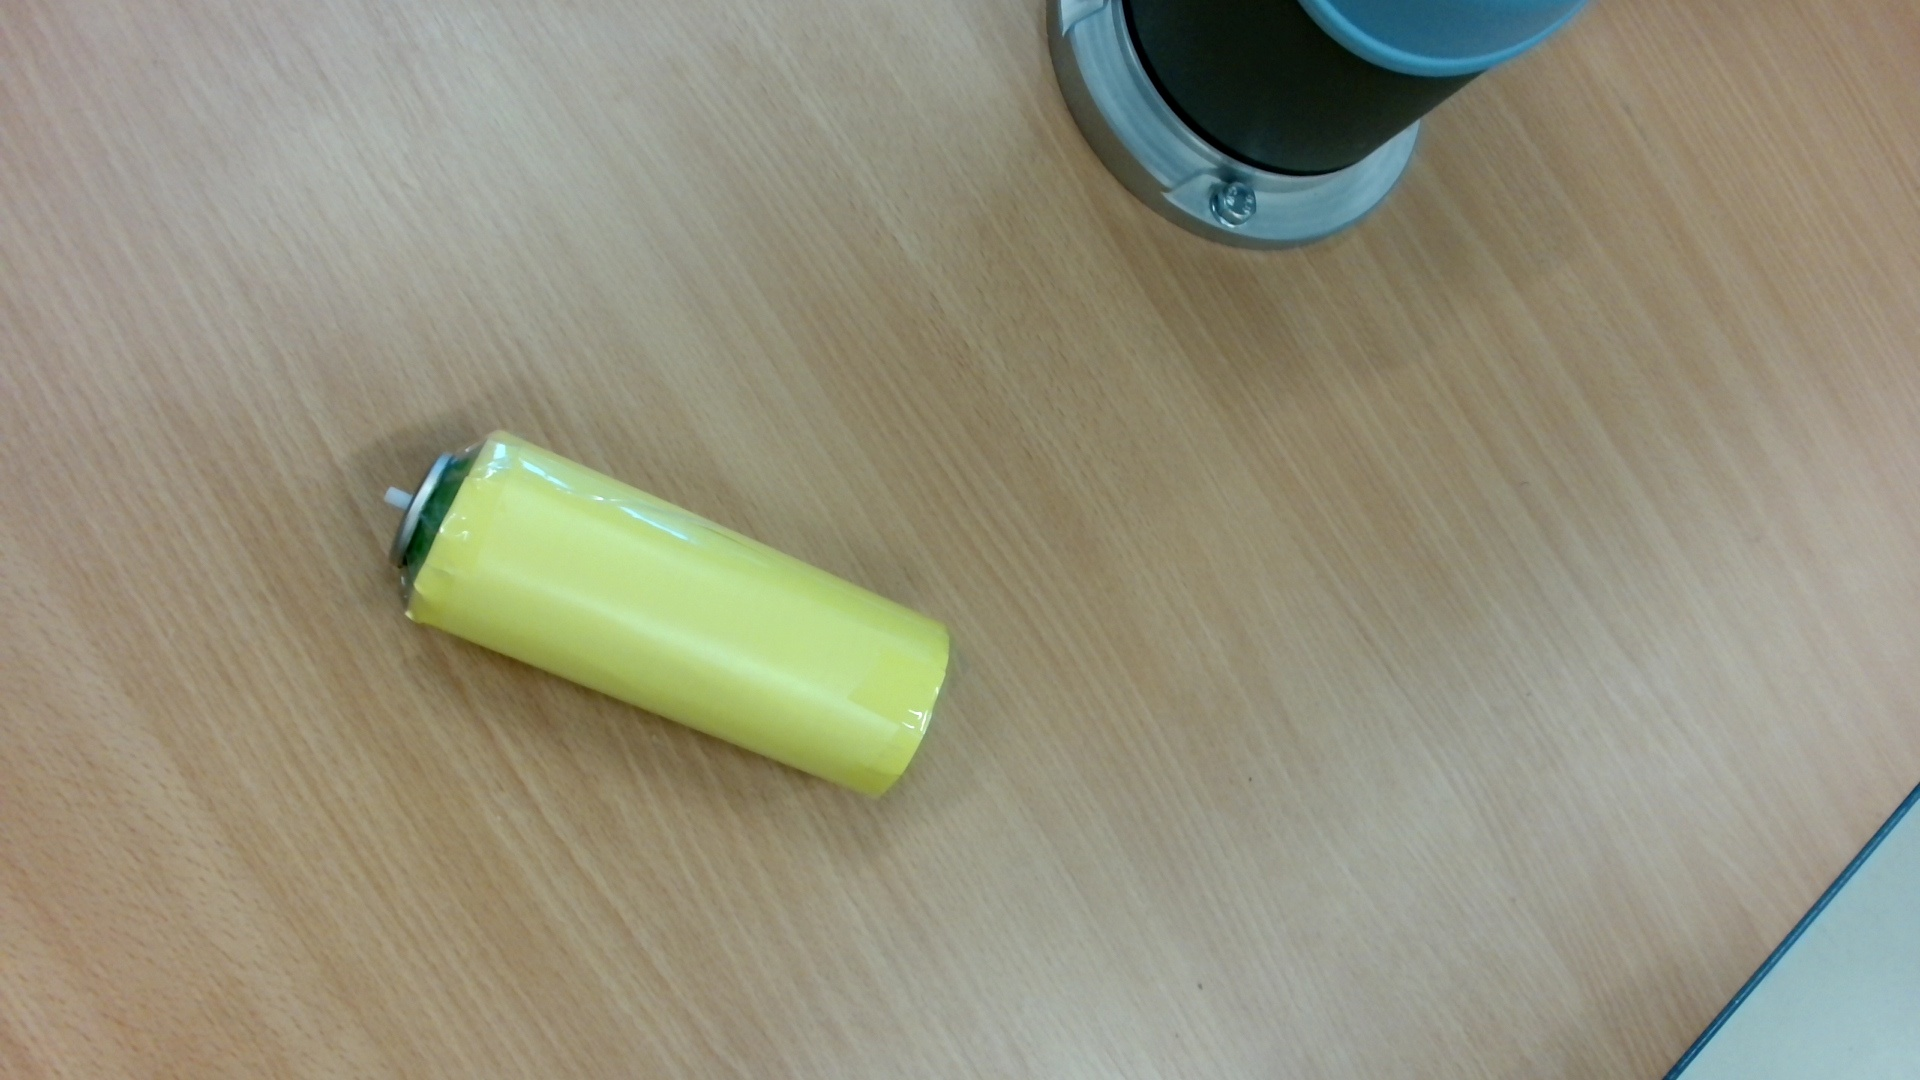Cylinder: (355, 415, 975, 811)
